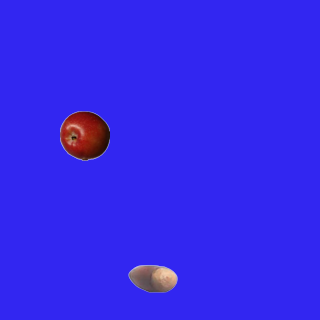Apple Braeburn: (59, 110, 109, 160)
Hazelnut: (127, 253, 177, 303)
